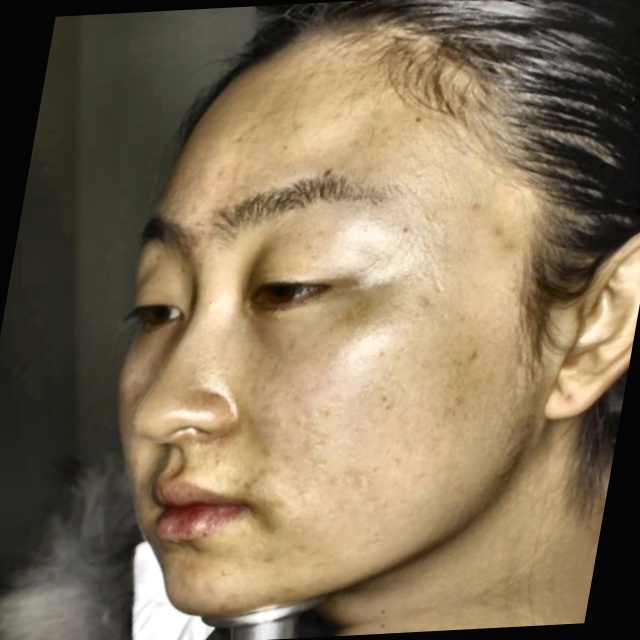comedone: (207, 561, 236, 581)
